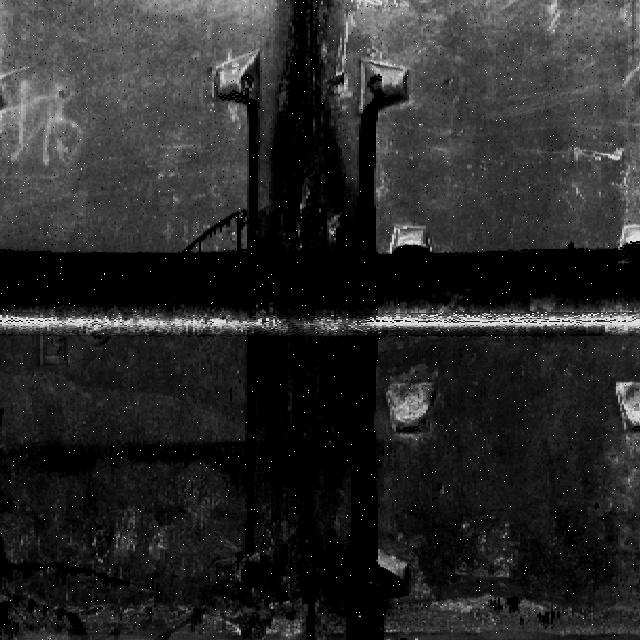leakage: (229, 339, 402, 640), (234, 1, 393, 261)
